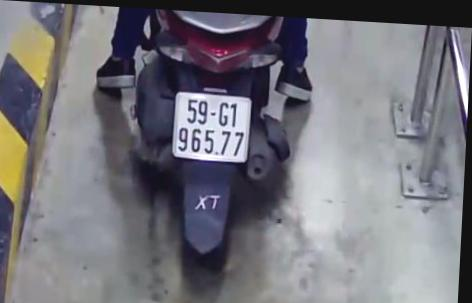License_Plate: (165, 84, 257, 179)
